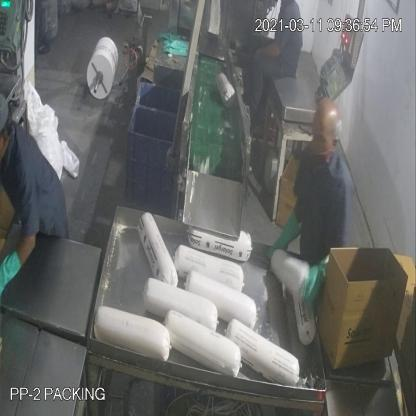glove: (300, 253, 336, 304)
